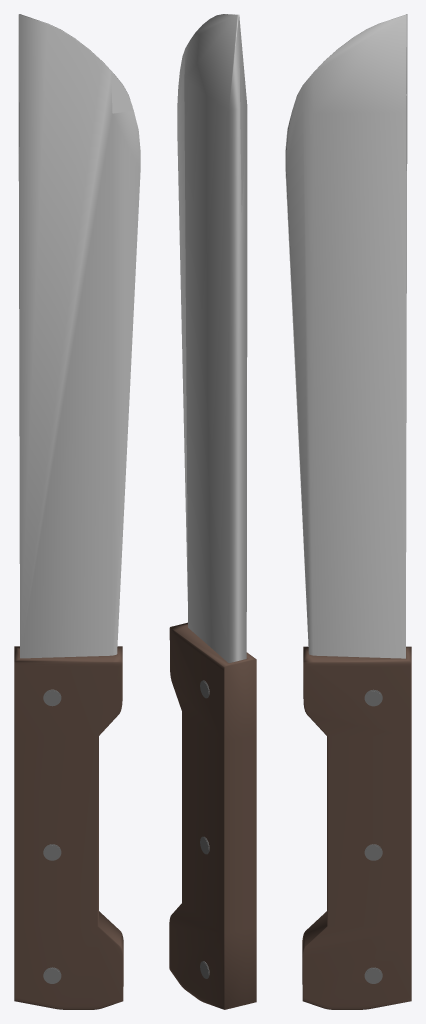
The model's file is Machete.fbx.
The picture shows the model from 3 angles, left to right: view 1: azimuth 90°, elevation 25°; view 2: azimuth 210°, elevation 25°; view 3: azimuth 270°, elevation 25°; orthographic projection.
Visible parts, largest first — view 1: Cube.001, Cube; view 2: Cube.001, Cube; view 3: Cube.001, Cube.
Boxes of the visible parts, x1,y1,x2,y2 form: Cube.001: (18, 14, 140, 658); Cube: (14, 646, 123, 1009); Cube.001: (177, 14, 247, 662); Cube: (169, 622, 256, 1009); Cube.001: (285, 14, 407, 658); Cube: (302, 646, 411, 1009).
Size of the model in its own units: 91.99 by 2583 by 299.
